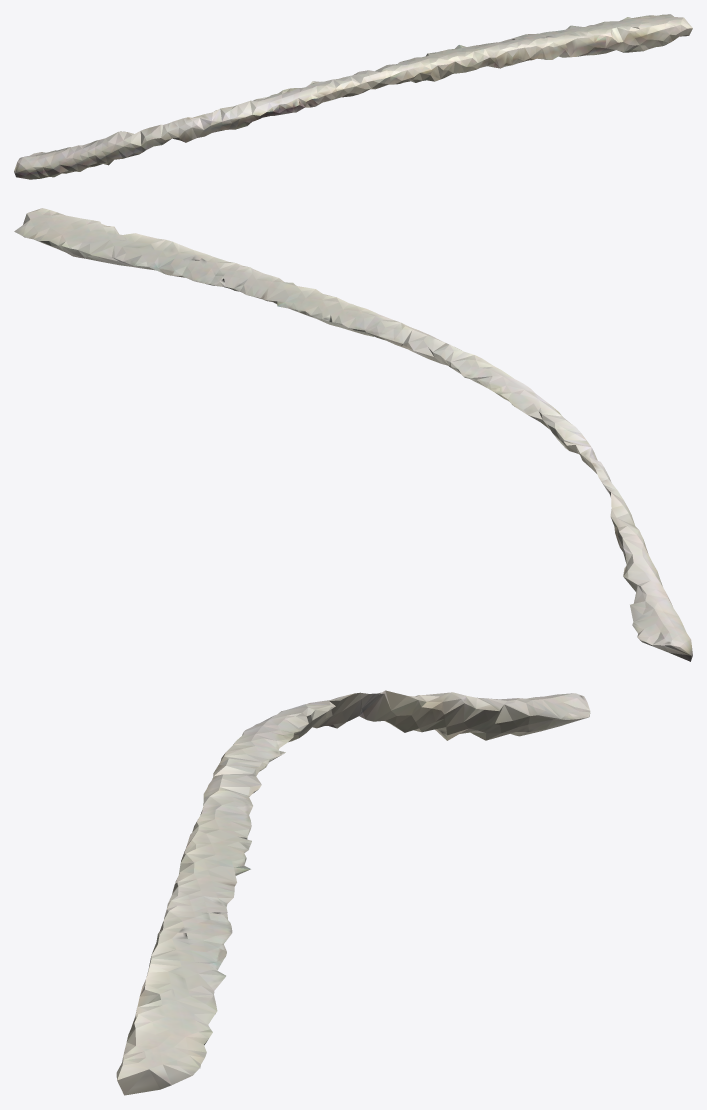
3 views of the same model, one above another, from view 1: azimuth 30°, elevation 25°; view 2: azimuth 150°, elevation 25°; view 3: azimuth 270°, elevation 25° (orthographic). The views are drawn at different scales.
Visible parts, largest first — view 1: link1; view 2: link1; view 3: link1.
Part boxes in pixels (x1,y1,x2,y2): link1: (14,14,692,179); link1: (14,208,692,661); link1: (116,690,590,1095).
Size of the model in its own units: 0.1075 by 0.0191 by 0.0389.
1 material, 1 textured.
